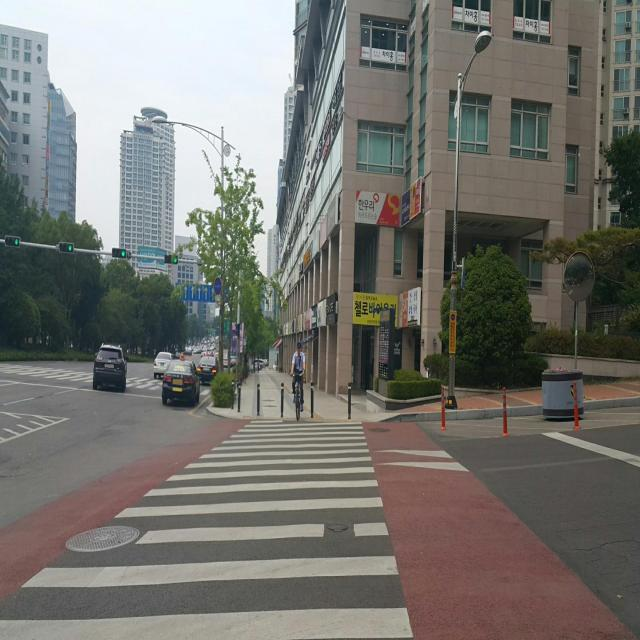횡단보도: (1, 414, 416, 640), (0, 361, 220, 401)
